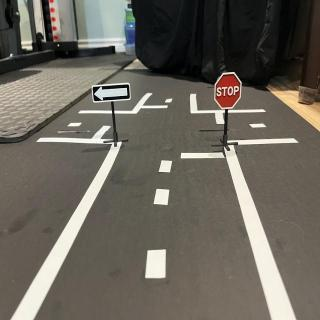sign_oneway_left: (93, 84, 133, 104)
sign_stop: (215, 74, 241, 109)
